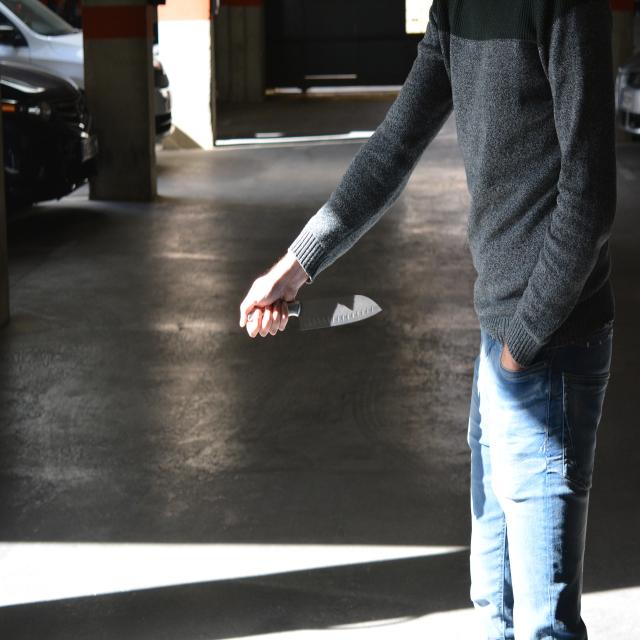knife: (248, 294, 388, 335)
